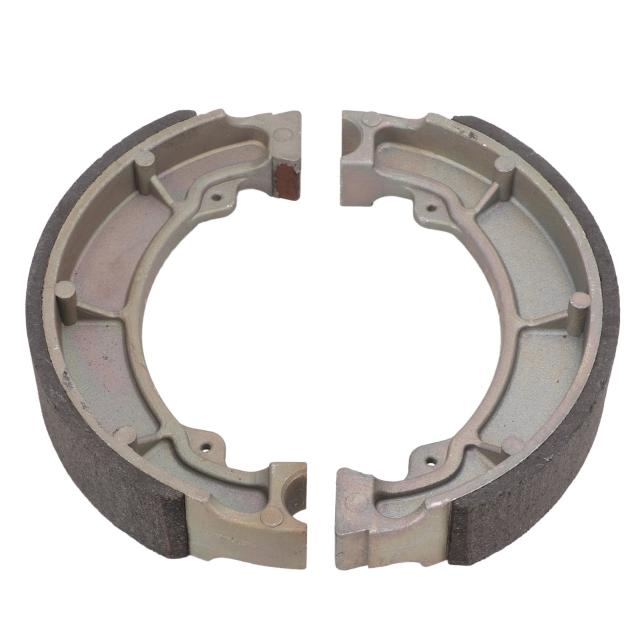brake_pad: (325, 97, 625, 586), (17, 94, 313, 569)
